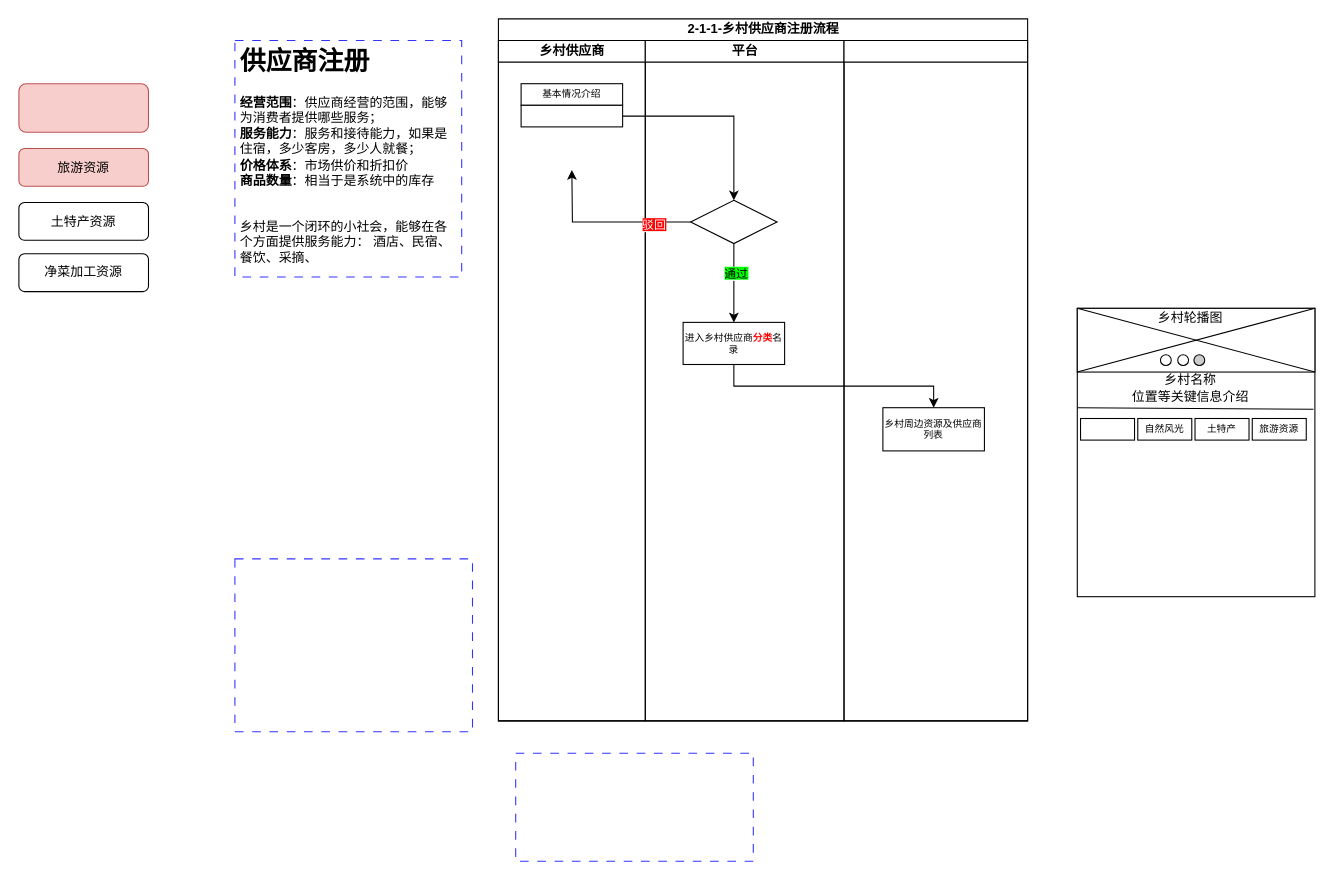
Image size: 1335x880. Some labels were removed from this diagram. The shapes that lost their labels are listed below. From the top down, each one's box as (x1, y1, x2, y2) in pixels, then its label:
(18, 83, 148, 132): 交通住宿资源
(520, 104, 623, 127): 服务能力介绍
(690, 199, 777, 244): 注册审核
(843, 39, 1028, 721): 会员
(1079, 417, 1135, 440): 介绍
(234, 558, 473, 732): 乡村供应商 PC管理后台：接单使用 小程序管理端：核销订单和结算使用 前期可以只开发小程序
(515, 752, 753, 861): 结算 前期尽量跟供应商谈结算周期， 如果谈不下， 可以按照一单一结来进行，后续一定要谈账期（至少一个月）
